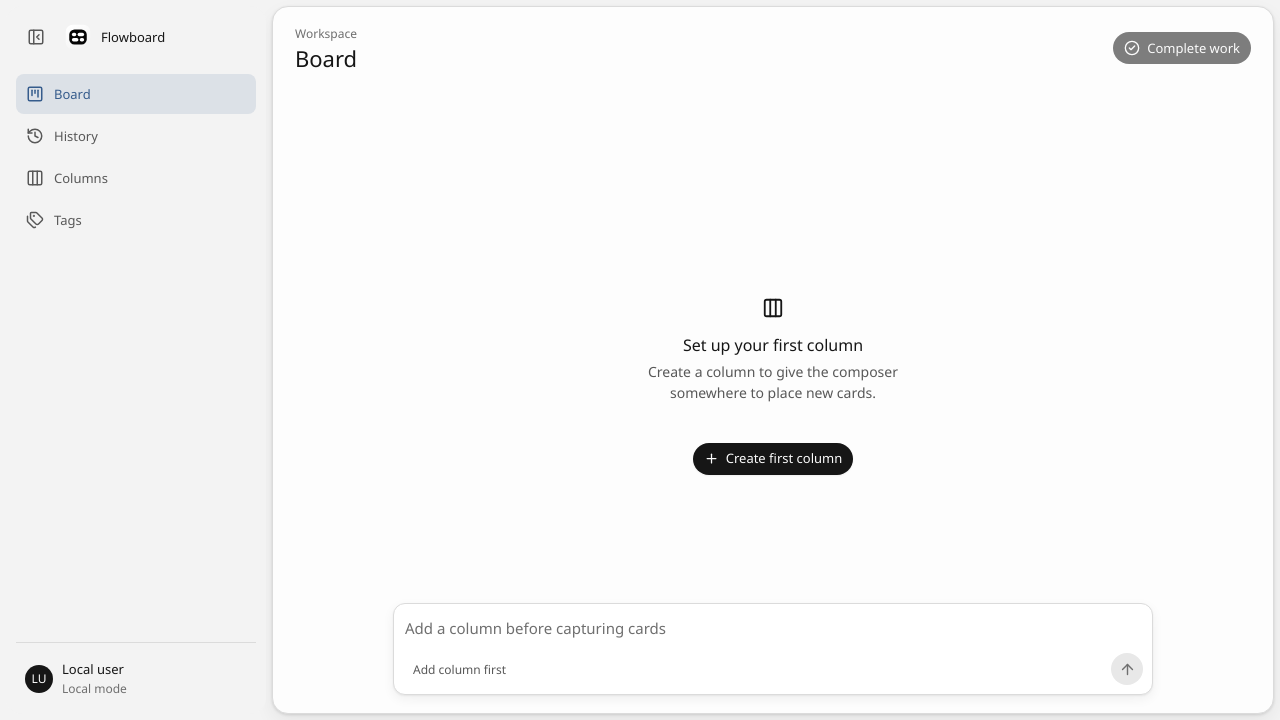
it: cancels a Manage Columns inline rename with Escape
Click the button "Create first column" at (773, 459), box [693,443,853,475]
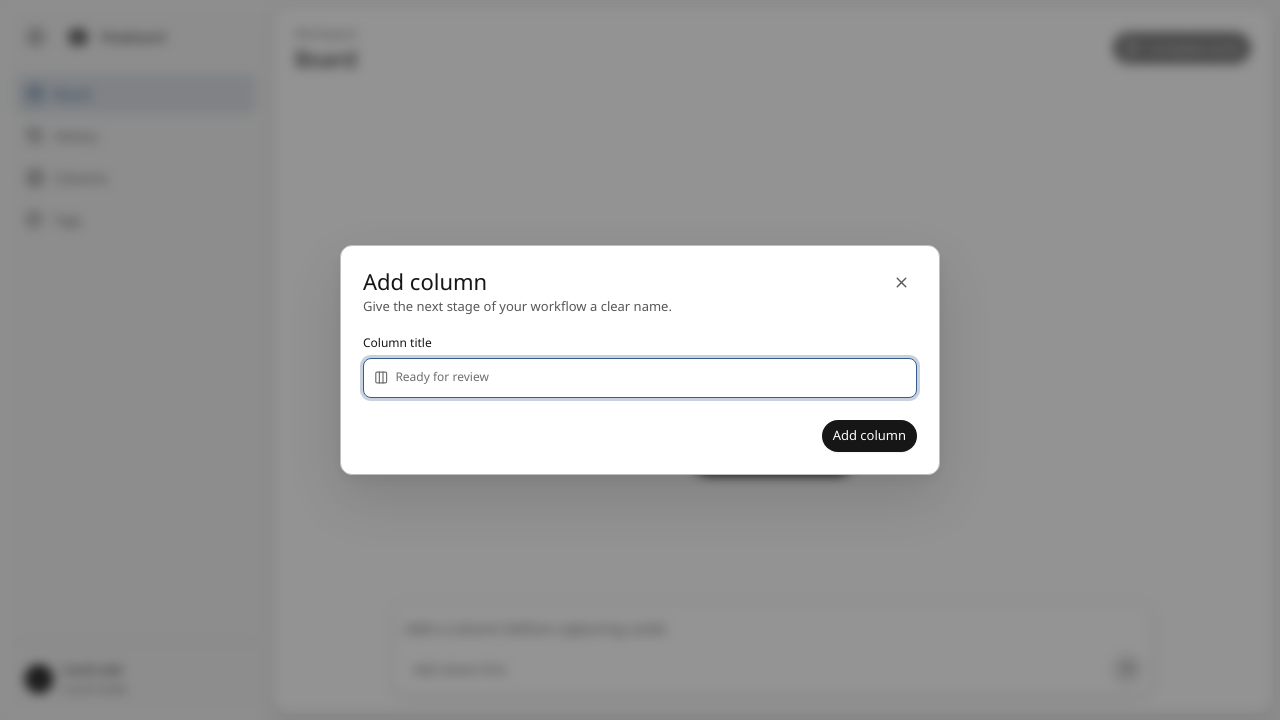
Type "Todo" into the field labelled "Column title" at (651, 378), box [395,359,906,396]
Click the button "Add column" at (869, 436), box [822,420,917,452]
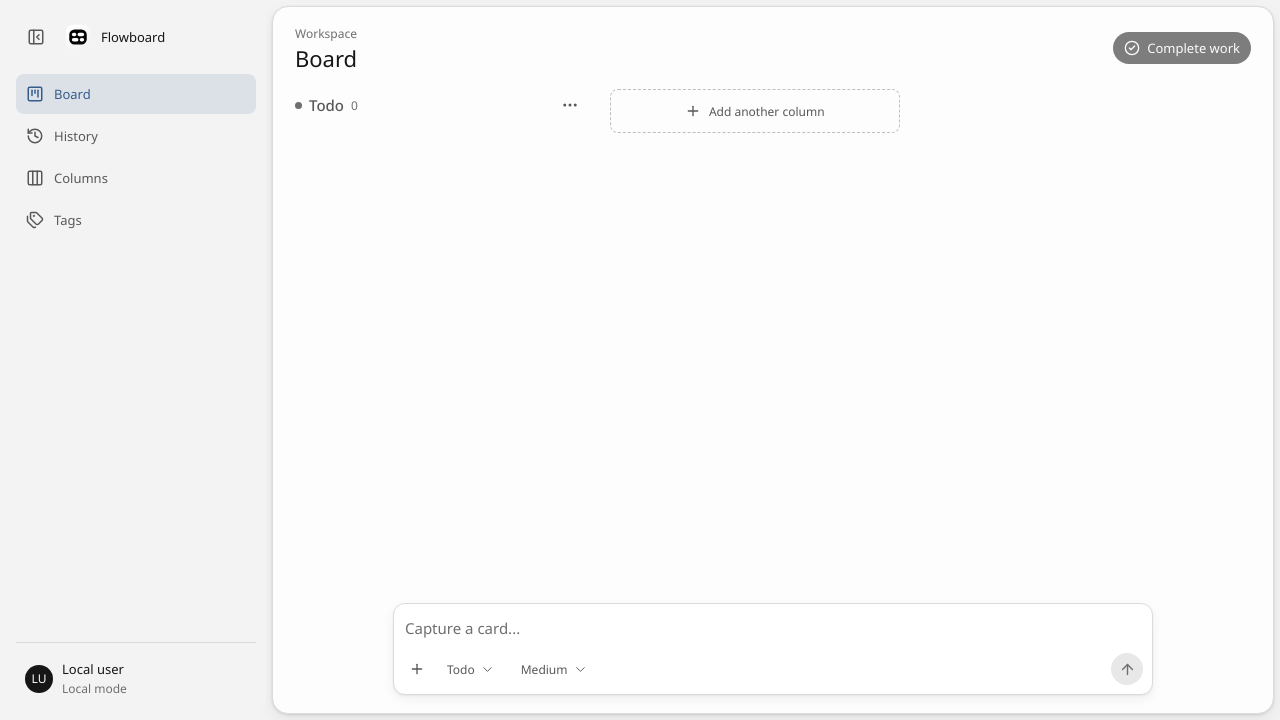
Result: the dialog is gone
Click the button with aria-label "manage columns" at (136, 178), box [16,158,256,198]
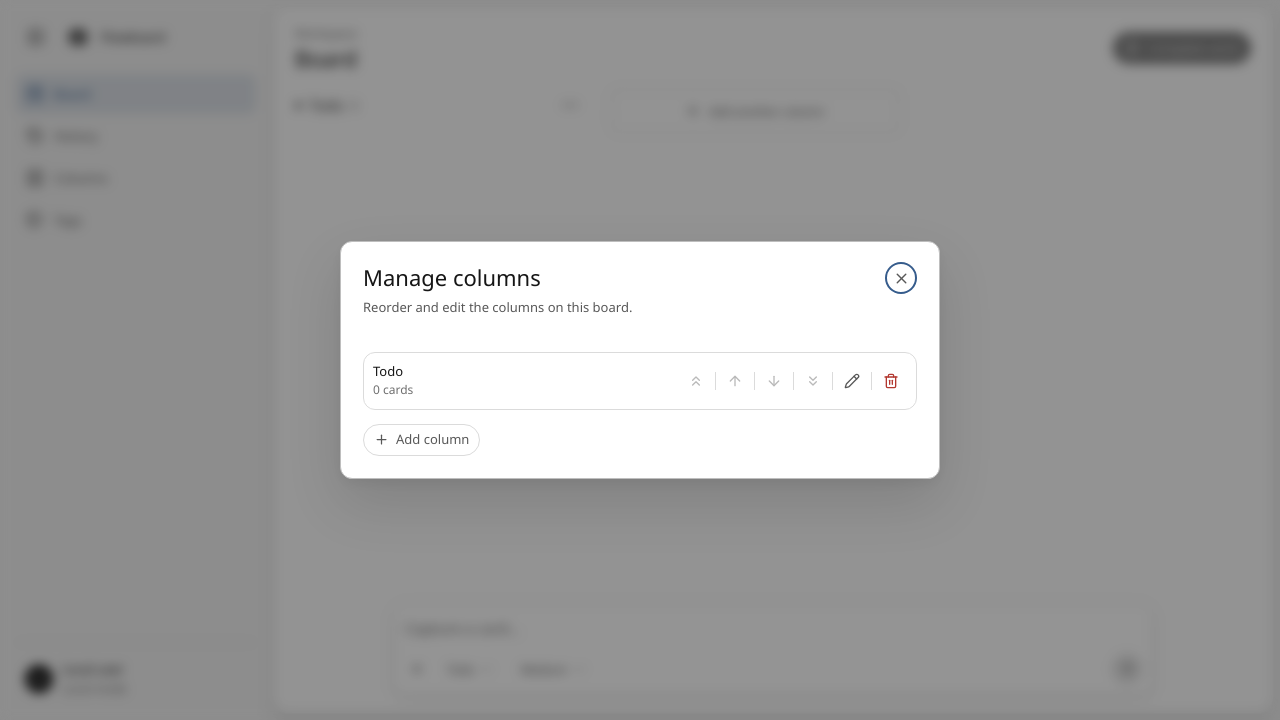
Click the button named "rename todo column" at (852, 381), box [836,365,868,397]
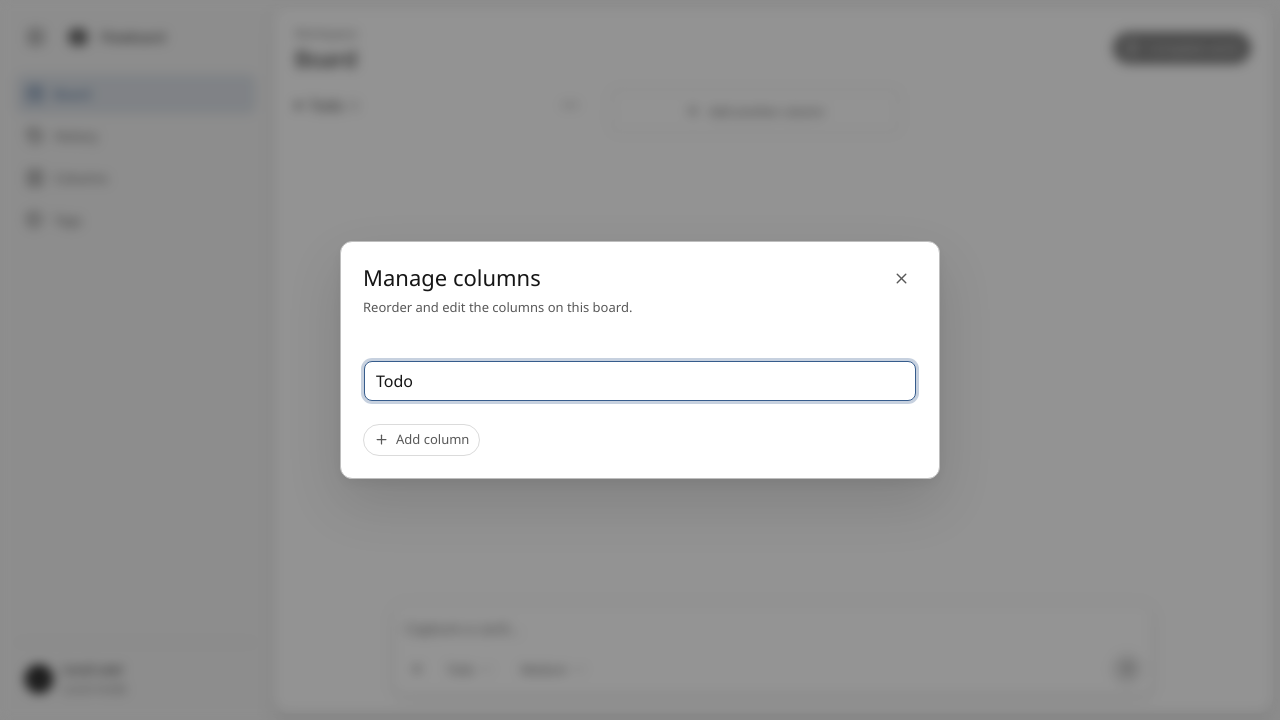
Replace the text in the field named "Rename Todo column" with "Ready" at (640, 381), box [364,361,916,401]
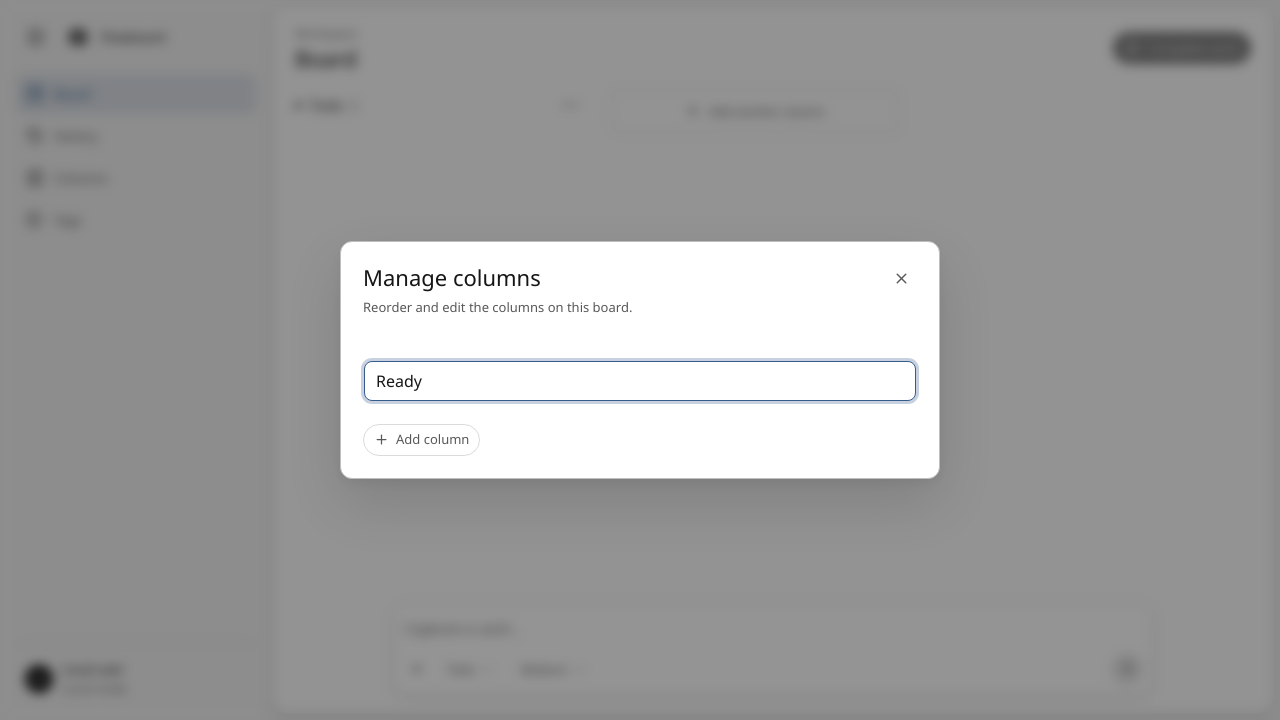
Press Escape
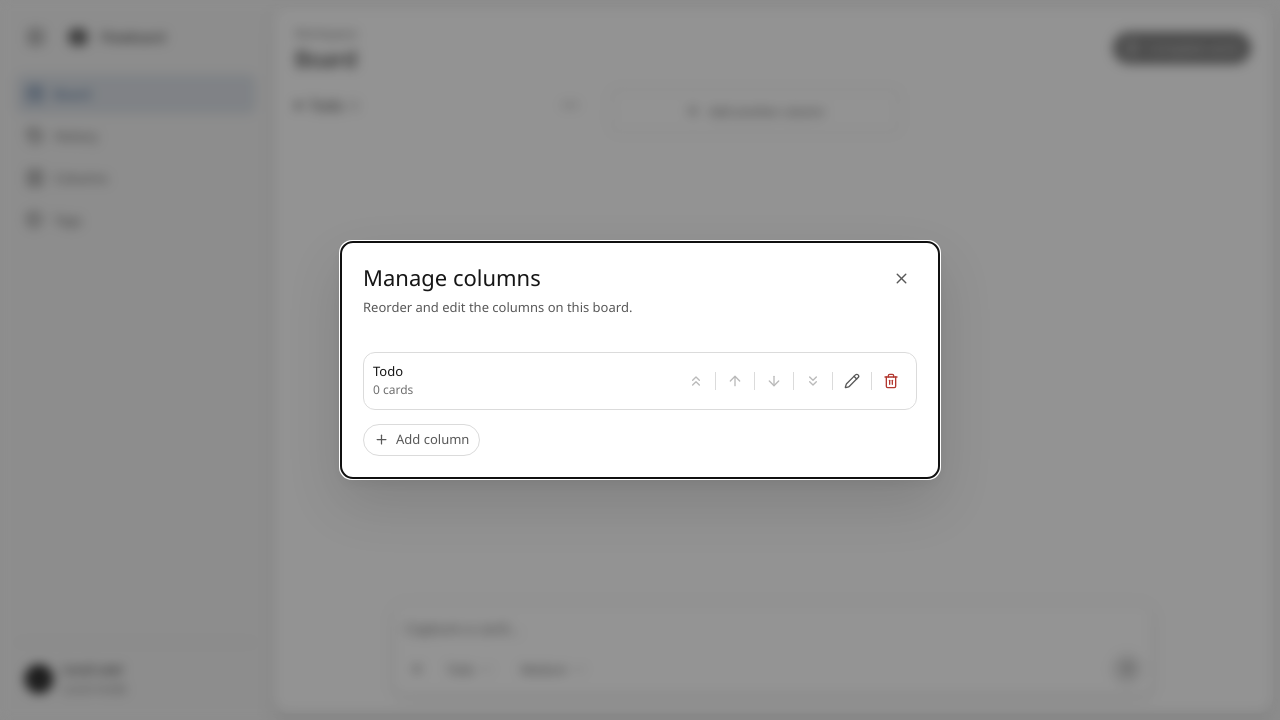
Result: the button named "rename todo column" is shown at [836,365,868,397]
